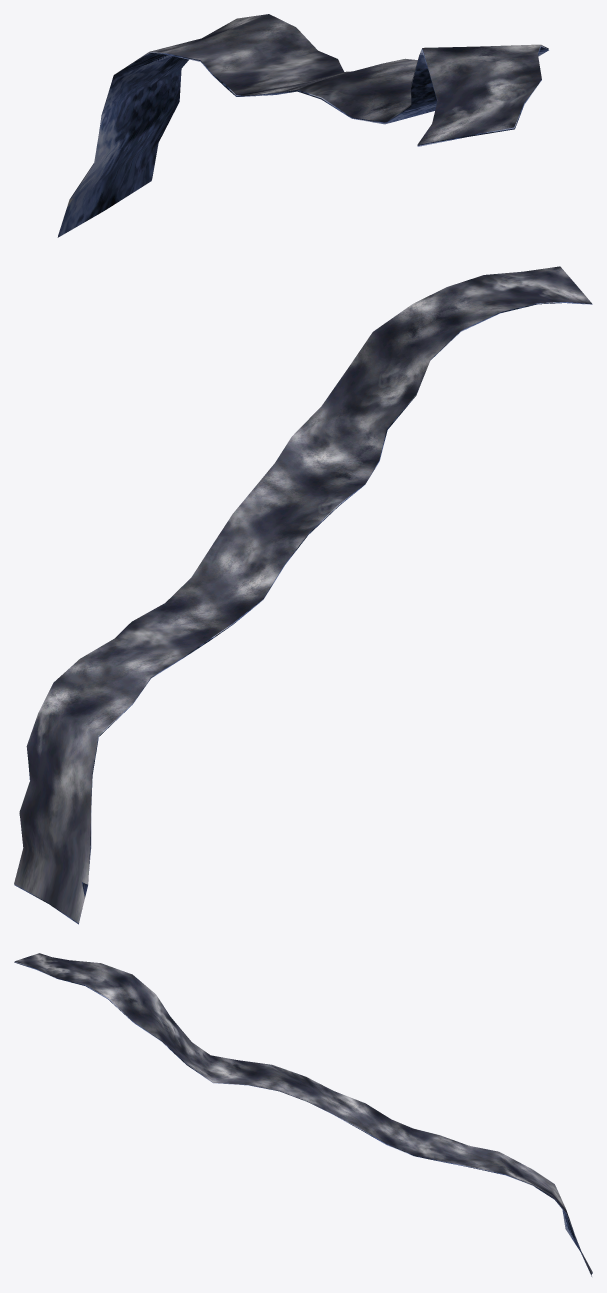
Rendered from EKH_THRONE_PS_TH_WATER484746.fbx.
3 views of the same model, one above another, from view 1: azimuth 30°, elevation 25°; view 2: azimuth 150°, elevation 25°; view 3: azimuth 270°, elevation 25° (orthographic). The views are drawn at different scales.
Visible parts, largest first — view 1: EKH_THRONE_PS_TH_WATER484746; view 2: EKH_THRONE_PS_TH_WATER484746; view 3: EKH_THRONE_PS_TH_WATER484746.
Part boxes in pixels (<box>): EKH_THRONE_PS_TH_WATER484746: <box>57,14,548,237</box>; EKH_THRONE_PS_TH_WATER484746: <box>14,266,592,924</box>; EKH_THRONE_PS_TH_WATER484746: <box>14,953,592,1276</box>.
Bounding box in the file's own units: 35223 × 59657 × 110844.
Materials: 2 (2 with a texture image).
